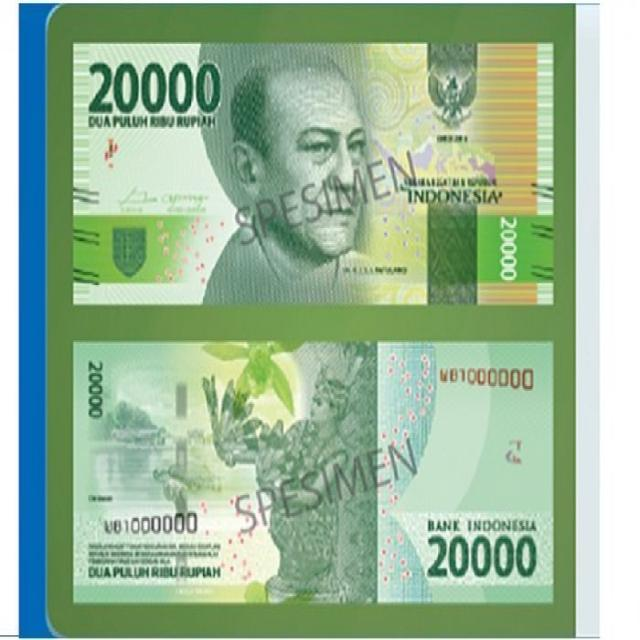dua puluh ribu rupiah: (73, 40, 553, 308), (72, 342, 554, 603)
